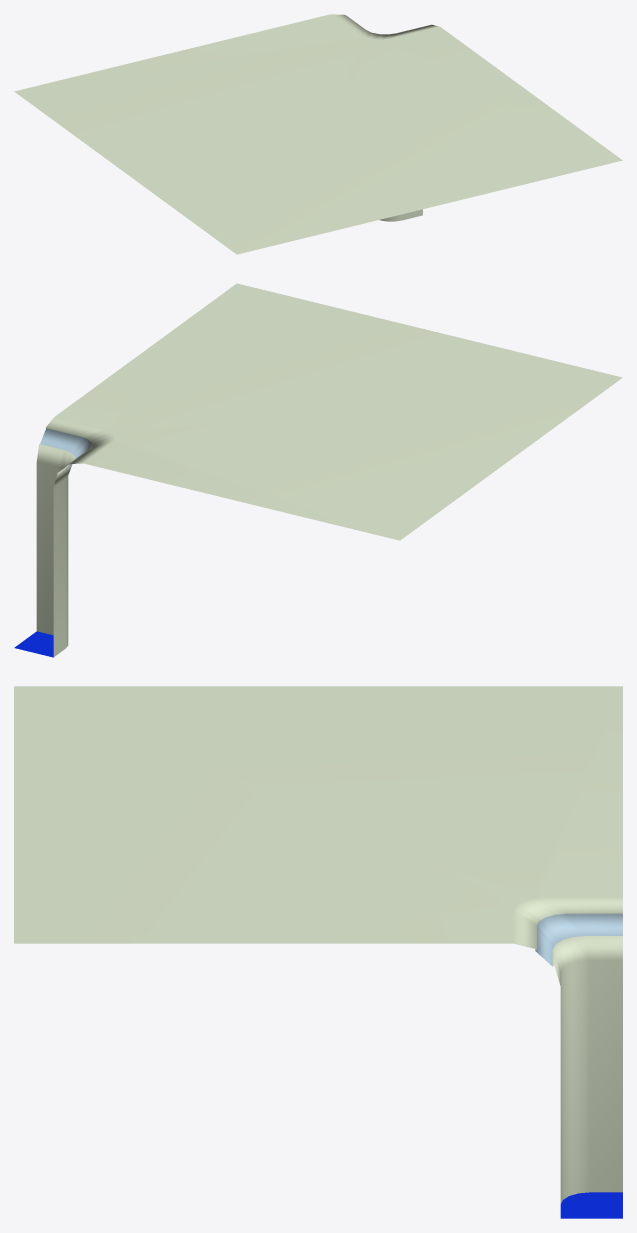
Rendered from Wall_Open_L.fbx.
3 renders of one model, top to bottom at view 1: azimuth 30°, elevation 25°; view 2: azimuth 150°, elevation 25°; view 3: azimuth 270°, elevation 25°, orthographic. The views are drawn at different scales.
Parts seen in each view (by area): view 1: Wall_Open_L; view 2: Wall_Open_L; view 3: Wall_Open_L.
Boxes of the visible parts, bbox=[...] form: Wall_Open_L: bbox=[14, 14, 622, 254]; Wall_Open_L: bbox=[14, 283, 622, 657]; Wall_Open_L: bbox=[14, 686, 622, 1218].
Bounding box in the file's own units: 100 × 49.85 × 100.
